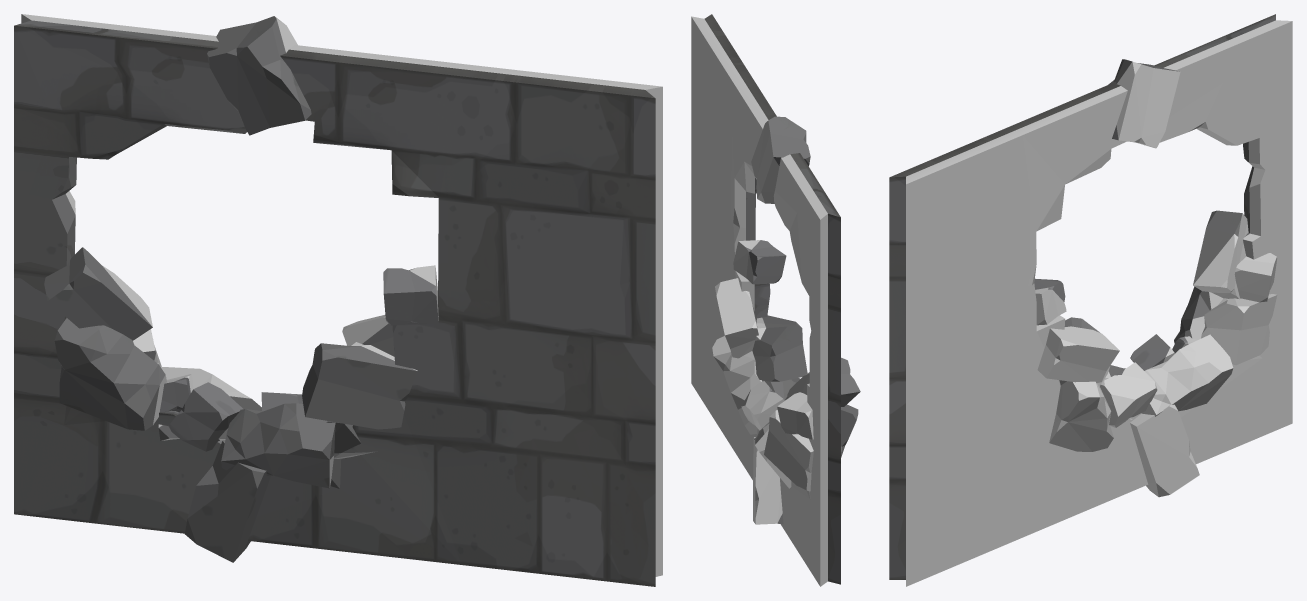
File: SM_Bld_45_Wall_L_Damaged_03.fbx
3 views of the same model, side by side, from view 1: azimuth 30°, elevation 25°; view 2: azimuth 150°, elevation 25°; view 3: azimuth 270°, elevation 25° (orthographic). The views are drawn at different scales.
Parts seen in each view (by area): view 1: SM_Bld_45_Wall_L_Damaged_03; view 2: SM_Bld_45_Wall_L_Damaged_03; view 3: SM_Bld_45_Wall_L_Damaged_03.
Boxes of the visible parts, <box> form: SM_Bld_45_Wall_L_Damaged_03: <box>14,14,662,586</box>; SM_Bld_45_Wall_L_Damaged_03: <box>691,14,860,586</box>; SM_Bld_45_Wall_L_Damaged_03: <box>889,14,1292,586</box>.
Bounding box in the file's own units: 545 × 650 × 545.
